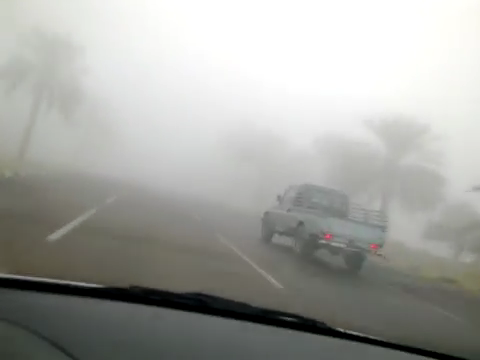bus: (260, 181, 389, 277)
